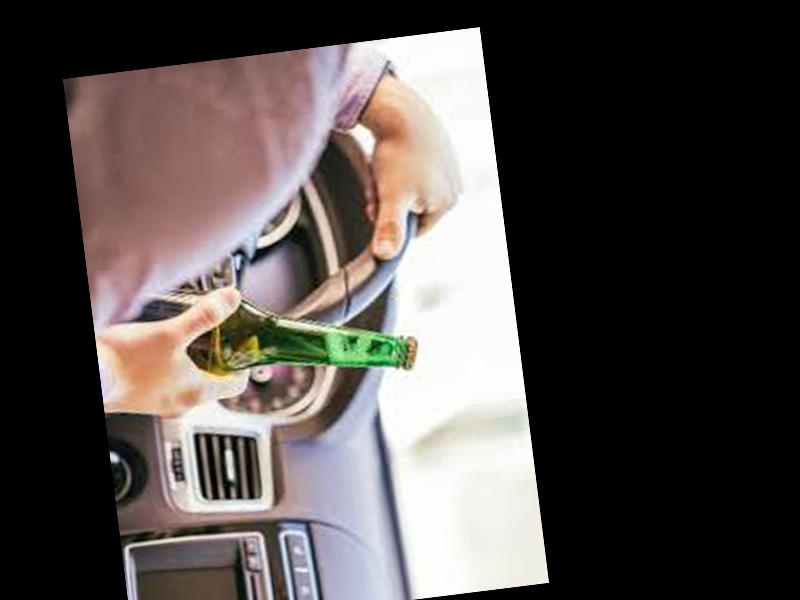Beer: (122, 261, 422, 405)
